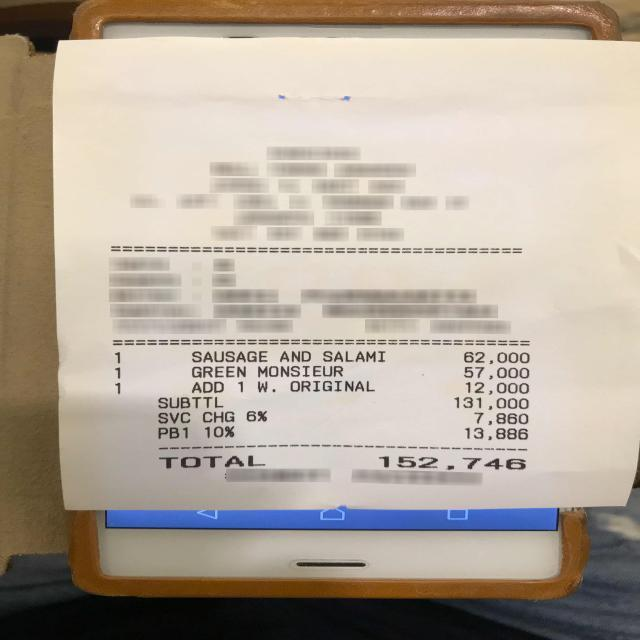kertas: (53, 22, 638, 510)
